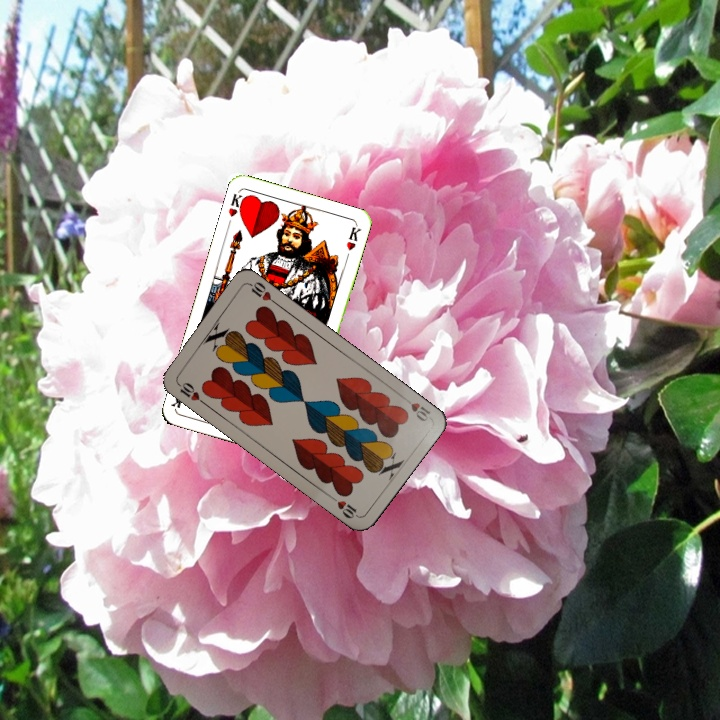H10: (398, 392, 433, 424), (173, 378, 208, 407)
HK: (224, 188, 249, 219)
